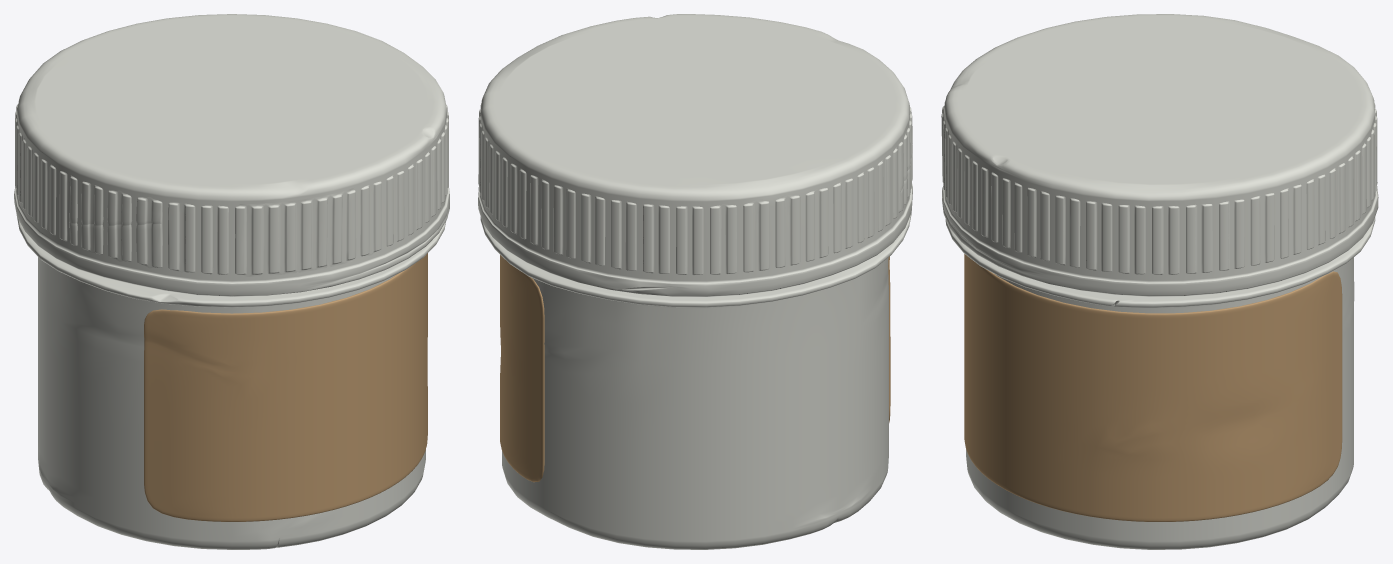
Rendered from paint_container_jar_blue_c01.glb.
3 renders of one model, left to right at view 1: azimuth 30°, elevation 25°; view 2: azimuth 150°, elevation 25°; view 3: azimuth 270°, elevation 25°, orthographic.
Bounding box in the file's own units: 0.0448 × 0.0421 × 0.045.
